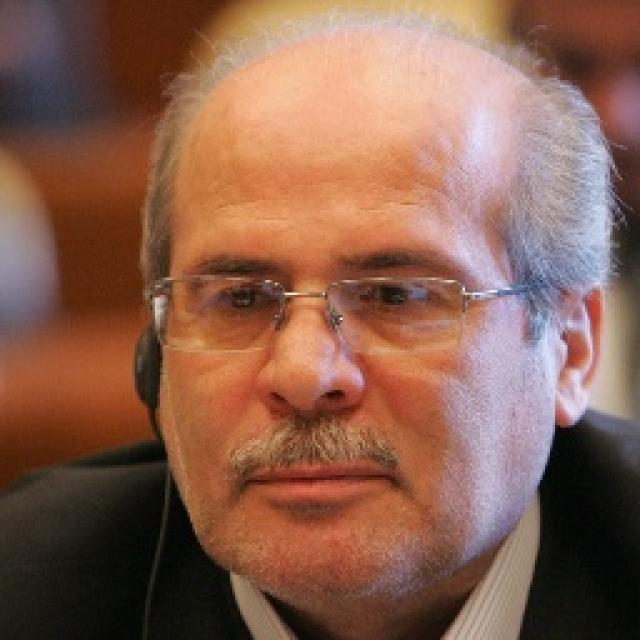earlobe: (556, 389, 589, 428)
eye: (357, 282, 439, 306), (212, 286, 280, 310)
nose: (262, 388, 358, 442)
wholeear: (557, 280, 607, 428)
